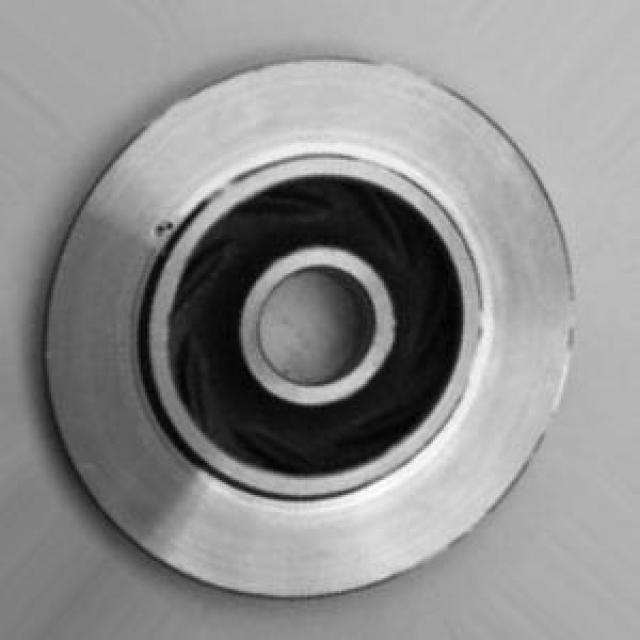Defect: (133, 207, 196, 250)
